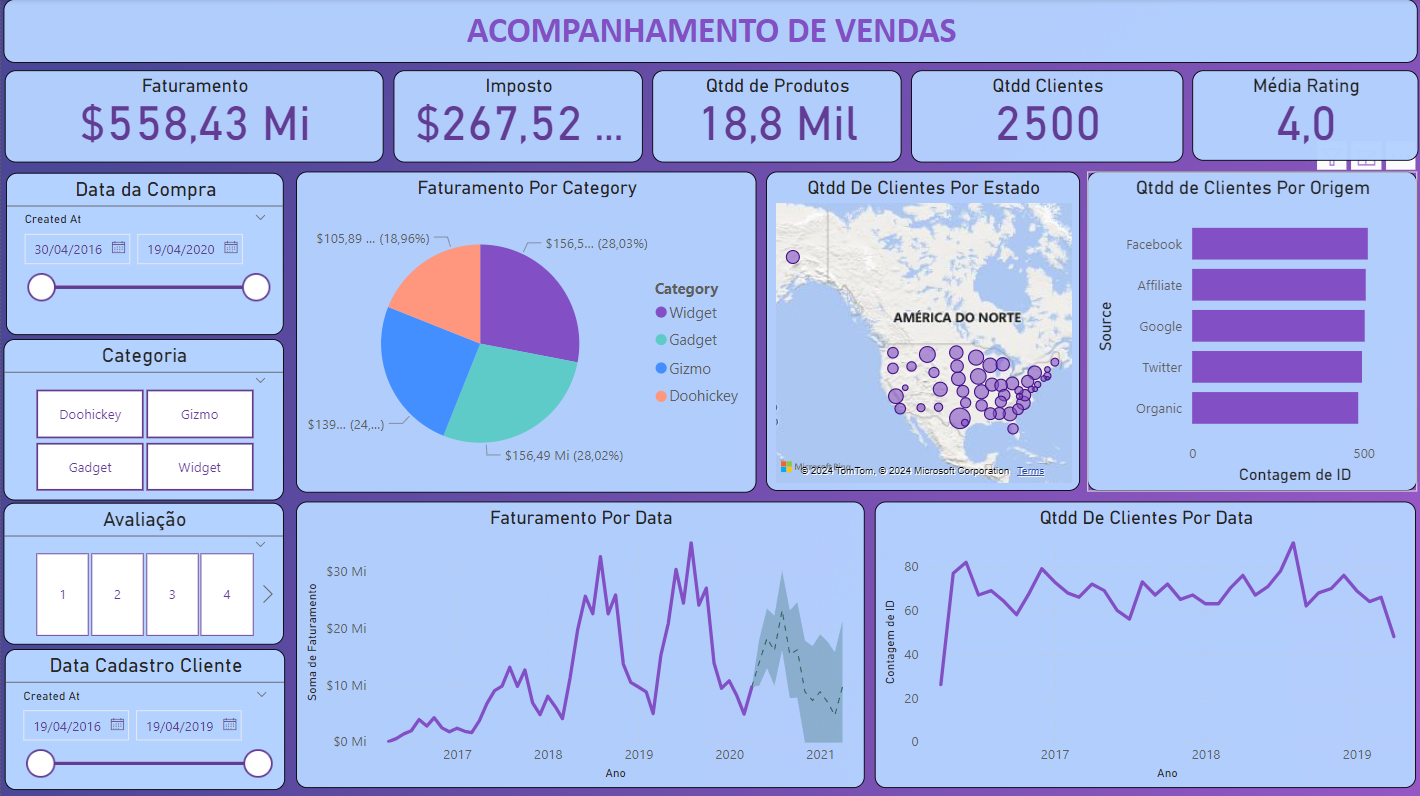

What the dashboard file says about the page in this screenshot:
{"tool":"powerbi","page":{"name":"AnáliseVendas","canvas":[1280,720],"ordinal":0},"visuals":[{"type":"card","title":"Qtdd Clientes","fields":{"Values":["CountNonNull(People.ID)"]},"box":[820.4,64,245.5,83.1],"z":0},{"type":"card","title":"Faturamento","fields":{"Values":["Sum(Orders.Faturamento)"]},"box":[3.2,64,341.6,83.1],"z":1000},{"type":"card","title":"Qtdd de Produtos","fields":{"Values":["CountNonNull(Orders.Product ID)"]},"box":[587,64,224.7,83.1],"z":2000},{"type":"slicer","title":"Data da Compra","fields":{"Values":["Orders.Created At"]},"box":[4.9,156.5,250.7,146.7],"z":3000},{"type":"lineChart","title":"Faturamento Por Data","fields":{"Category":["Orders.Created At.Variation.Hierarquia de datas.Ano","Orders.Created At.Variation.Hierarquia de datas.Mês","Orders.Created At.Variation.Hierarquia de datas.Dia"],"Y":["Sum(Orders.Faturamento)"]},"box":[266.2,453.2,513,258.4],"z":4000},{"type":"pieChart","title":"Faturamento Por Category","fields":{"Y":["Sum(Orders.Faturamento)"],"Category":["Products.Category"]},"box":[266.2,155.8,415.6,289.6],"z":5000},{"type":"lineChart","title":"Qtdd De Clientes Por Data","fields":{"Y":["CountNonNull(People.ID)"],"Category":["People.Created At.Variation.Hierarquia de datas.Ano","People.Created At.Variation.Hierarquia de datas.Mês"]},"box":[788.3,453.2,488.3,258.4],"z":6000},{"type":"slicer","title":"Data Cadastro Cliente","fields":{"Values":["People.Created At"]},"box":[3.7,585.7,253.1,127.2],"z":7000},{"type":"map","title":"Qtdd De Clientes Por Estado","fields":{"Category":["People.Estado"],"Size":["Count(People.ID)"]},"box":[689.6,155.8,283.1,288.3],"z":8000},{"type":"barChart","title":"Qtdd de Clientes Por  Origem","fields":{"Category":["People.Source"],"Y":["CountNonNull(People.ID)"]},"box":[979.2,155.8,297.4,288.3],"z":9000},{"type":"card","title":"Média Rating","fields":{"Values":["Avg(Reviews.Rating)"]},"box":[1074.6,64.6,203.9,81.8],"z":10000},{"type":"slicer","title":"Categoria","fields":{"Values":["Products.Category"]},"box":[2.4,306.1,253.1,145.5],"z":11000},{"type":"card","title":"Imposto","fields":{"Values":["Sum(Orders.Imposto)"]},"box":[353.5,64,224.7,83.1],"z":12000},{"type":"slicer","title":"       Avaliação","fields":{"Values":["Reviews.Rating"]},"box":[2.4,454.5,253.1,128.4],"z":13000},{"type":"textbox","box":[2.4,0,1275.4,57.5],"z":14000}]}

Visuals, with their boxes in screenshot pixels (x1, y1, x2, y2), scaled from the page's 1280x720 canvas onto the 1420x796 screenshot:
"Qtdd Clientes" card: l=910, t=71, r=1182, b=163
"Faturamento" card: l=4, t=71, r=383, b=163
"Qtdd de Produtos" card: l=651, t=71, r=900, b=163
"Data da Compra" slicer: l=5, t=173, r=284, b=335
"Faturamento Por Data" lineChart: l=295, t=501, r=864, b=787
"Faturamento Por Category" pieChart: l=295, t=172, r=756, b=492
"Qtdd De Clientes Por Data" lineChart: l=875, t=501, r=1416, b=787
"Data Cadastro Cliente" slicer: l=4, t=648, r=285, b=788
"Qtdd De Clientes Por Estado" map: l=765, t=172, r=1079, b=491
"Qtdd de Clientes Por  Origem" barChart: l=1086, t=172, r=1416, b=491
"Média Rating" card: l=1192, t=71, r=1418, b=162
"Categoria" slicer: l=3, t=338, r=283, b=499
"Imposto" card: l=392, t=71, r=641, b=163
"       Avaliação" slicer: l=3, t=502, r=283, b=644
textbox: l=3, t=0, r=1418, b=64
